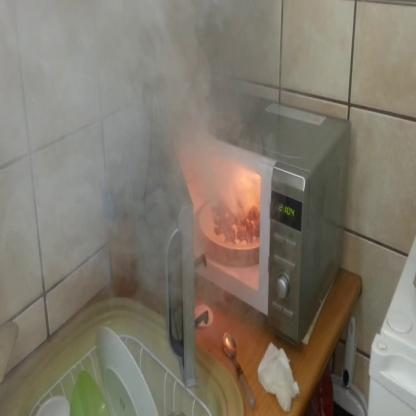smoke: (0, 0, 277, 295)
